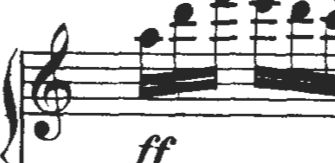treble_clef: (26, 16, 80, 148)
